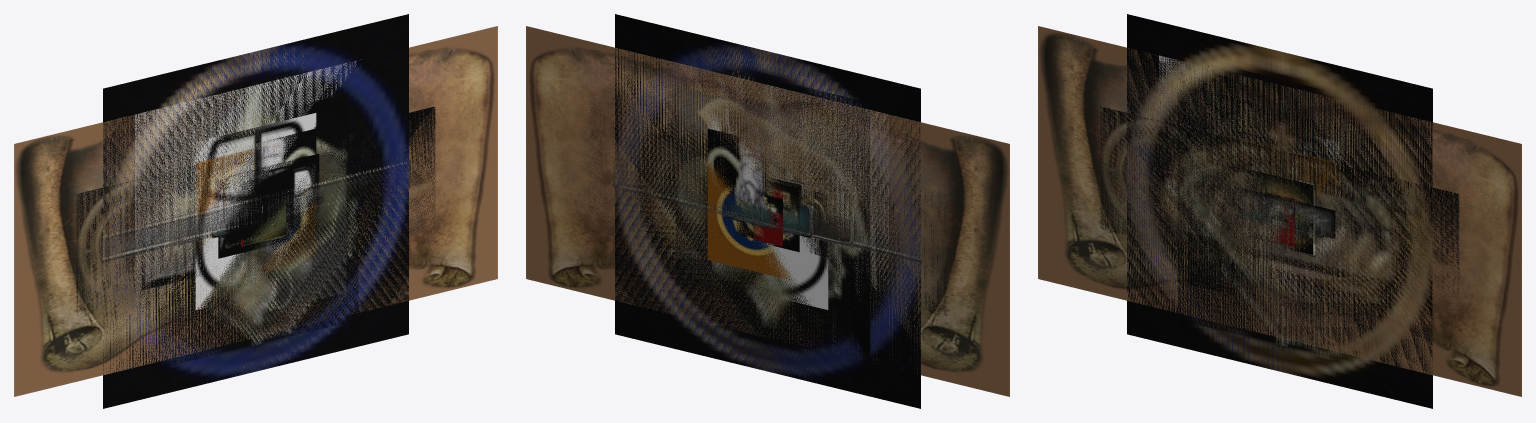
File: toplevel_gui.fbx
The picture shows the model from 3 angles, left to right: view 1: azimuth 30°, elevation 25°; view 2: azimuth 150°, elevation 25°; view 3: azimuth 330°, elevation 25°; orthographic projection.
Visible parts, largest first — view 1: pir_t_gui_gen_parchment, ship_pvp_icon_french, ship_pvp_icon_spanish, keyboard_button, main_gui_game_gui_base, compass_small_button_open_over, icon_mouse, treasure_chest_open_over, topgui_health_frame, friend_button_over, topgui_general_corner, topgui_infamy_frame (+5 smaller); view 2: pir_t_gui_gen_parchment, ship_pvp_icon_french, ship_pvp_icon_spanish, compass_small_button_open_over, treasure_chest_open_over, keyboard_button, topgui_infamy_frame, icon_mouse, friend_button_over, topgui_name_text_box, topgui_health_frame, pir_t_gui_but_generic_blue_disabled (+8 smaller); view 3: pir_t_gui_gen_parchment, ship_pvp_icon_spanish, main_gui_game_gui_base, ship_pvp_icon_french, compass_small_button_open_over, compass_small_button_over, generic_button_disabled, lookout_win_treasuremap_icon, pir_t_gui_but_quest_down, topgui_infamy_frame, keyboard_button, pir_t_gui_but_generic_blue_disabled (+3 smaller).
Boxes of the visible parts, left/top/right/bottom form: pir_t_gui_gen_parchment: left=14, top=26, right=497, bottom=396; ship_pvp_icon_french: left=103, top=14, right=408, bottom=408; ship_pvp_icon_spanish: left=103, top=37, right=408, bottom=388; keyboard_button: left=135, top=59, right=375, bottom=334; main_gui_game_gui_base: left=76, top=107, right=435, bottom=315; compass_small_button_open_over: left=153, top=72, right=358, bottom=369; icon_mouse: left=195, top=113, right=316, bottom=309; treasure_chest_open_over: left=166, top=102, right=346, bottom=323; topgui_health_frame: left=101, top=159, right=410, bottom=263; friend_button_over: left=196, top=128, right=316, bottom=288; topgui_general_corner: left=218, top=164, right=293, bottom=258; topgui_infamy_frame: left=195, top=143, right=316, bottom=279; pir_t_gui_gen_parchment: left=526, top=26, right=1009, bottom=396; ship_pvp_icon_french: left=615, top=14, right=920, bottom=408; ship_pvp_icon_spanish: left=615, top=24, right=920, bottom=388; compass_small_button_open_over: left=706, top=66, right=870, bottom=369; treasure_chest_open_over: left=677, top=86, right=858, bottom=281; keyboard_button: left=647, top=64, right=888, bottom=335; topgui_infamy_frame: left=707, top=142, right=826, bottom=280; icon_mouse: left=708, top=113, right=828, bottom=309; friend_button_over: left=707, top=128, right=782, bottom=249; topgui_name_text_box: left=682, top=190, right=853, bottom=247; topgui_health_frame: left=613, top=161, right=922, bottom=263; pir_t_gui_but_generic_blue_disabled: left=723, top=197, right=813, bottom=238; pir_t_gui_gen_parchment: left=1038, top=26, right=1521, bottom=396; ship_pvp_icon_spanish: left=1127, top=14, right=1432, bottom=408; main_gui_game_gui_base: left=1100, top=106, right=1459, bottom=305; ship_pvp_icon_french: left=1127, top=14, right=1432, bottom=408; compass_small_button_open_over: left=1177, top=65, right=1375, bottom=365; compass_small_button_over: left=1188, top=114, right=1371, bottom=304; generic_button_disabled: left=1165, top=153, right=1394, bottom=289; lookout_win_treasuremap_icon: left=1246, top=168, right=1313, bottom=244; pir_t_gui_but_quest_down: left=1225, top=184, right=1335, bottom=238; topgui_infamy_frame: left=1219, top=150, right=1340, bottom=263; keyboard_button: left=1159, top=55, right=1363, bottom=189; pir_t_gui_but_generic_blue_disabled: left=1234, top=205, right=1325, bottom=238.
Bounding box in the file's own units: 213 × 135 × 2.2e-05.
45 materials, 45 textured.
